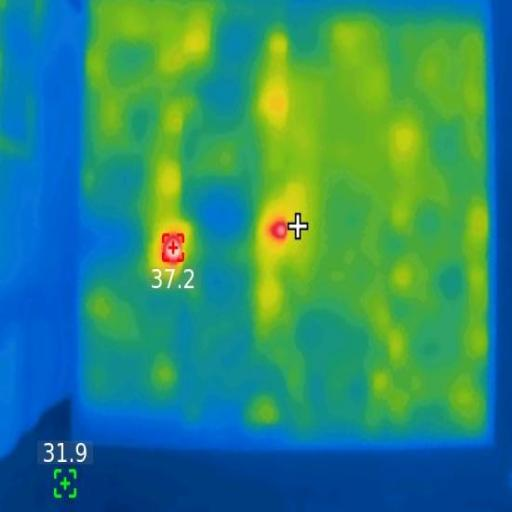hotspot: (158, 231, 189, 267), (264, 218, 292, 242)
